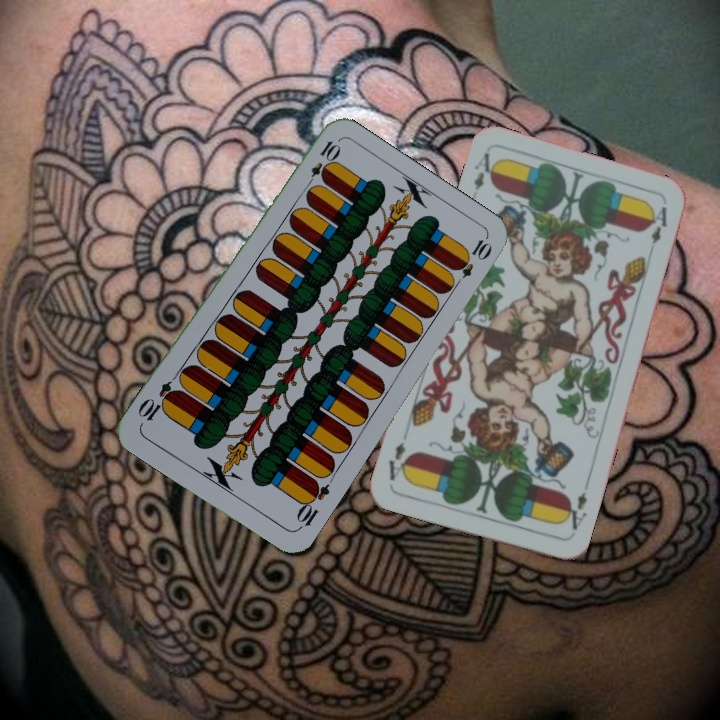E10: (292, 476, 333, 533), (301, 136, 342, 192)
EA: (466, 148, 501, 206), (558, 488, 590, 533)
